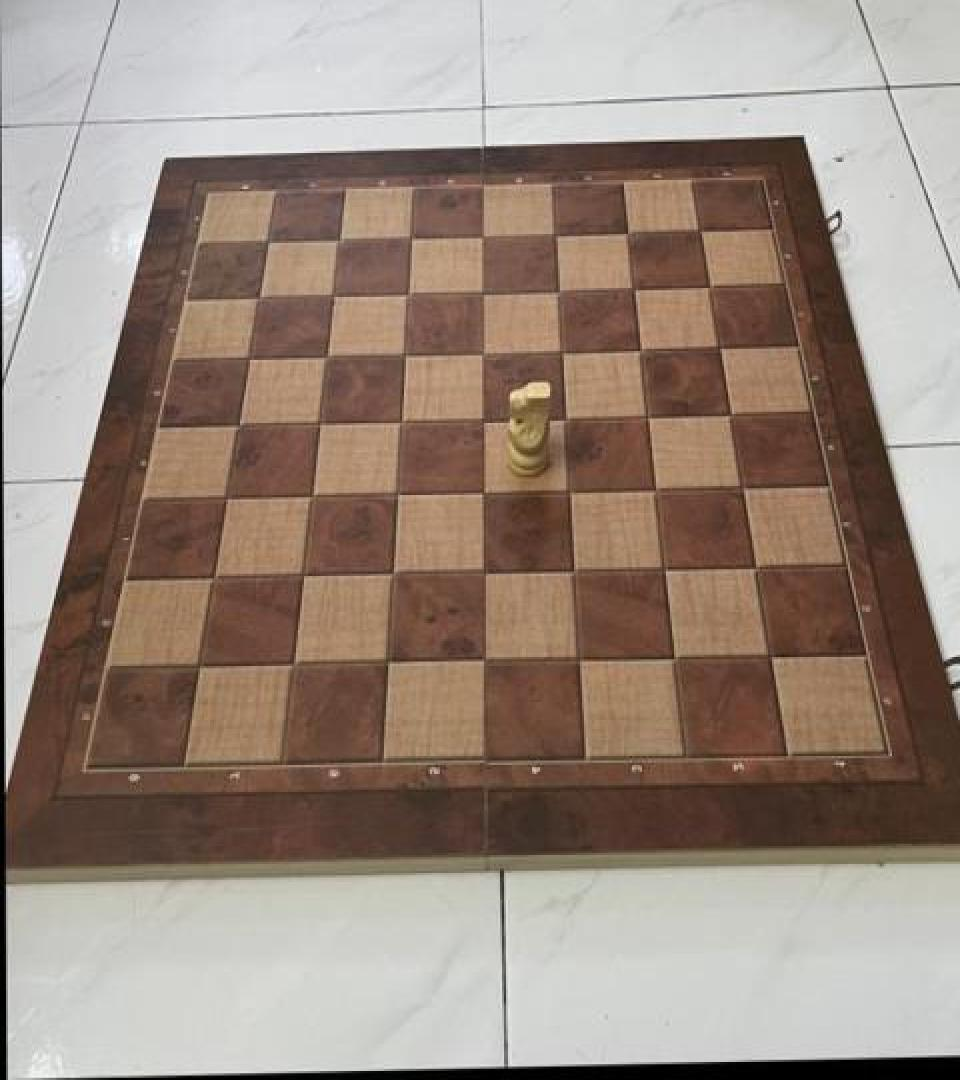xcorner: (465, 219, 499, 258), (540, 272, 574, 311), (465, 335, 499, 374), (465, 642, 499, 681), (250, 225, 284, 263), (321, 223, 355, 261), (393, 222, 427, 260), (537, 217, 571, 255), (609, 215, 643, 253), (682, 213, 716, 251), (241, 282, 275, 320), (315, 279, 349, 317), (390, 277, 424, 315), (465, 274, 499, 312), (616, 270, 650, 308), (691, 269, 725, 307), (231, 341, 265, 379), (309, 339, 343, 377), (387, 338, 421, 376), (544, 333, 578, 371), (622, 331, 656, 369), (702, 328, 736, 366), (220, 408, 254, 446), (301, 405, 335, 443), (383, 403, 417, 441), (465, 402, 499, 440), (547, 400, 581, 438), (630, 397, 664, 435), (713, 395, 747, 433), (208, 480, 242, 518), (294, 478, 328, 516), (379, 476, 413, 514), (465, 474, 499, 512), (551, 472, 585, 510), (638, 470, 672, 508), (725, 468, 759, 506), (195, 559, 229, 597), (285, 557, 319, 595), (375, 556, 409, 594), (465, 554, 499, 592), (556, 552, 590, 590), (647, 550, 681, 588), (739, 548, 773, 586), (181, 648, 215, 686), (275, 646, 309, 684), (370, 645, 404, 683), (561, 640, 595, 678), (657, 639, 691, 677), (753, 637, 787, 675)
